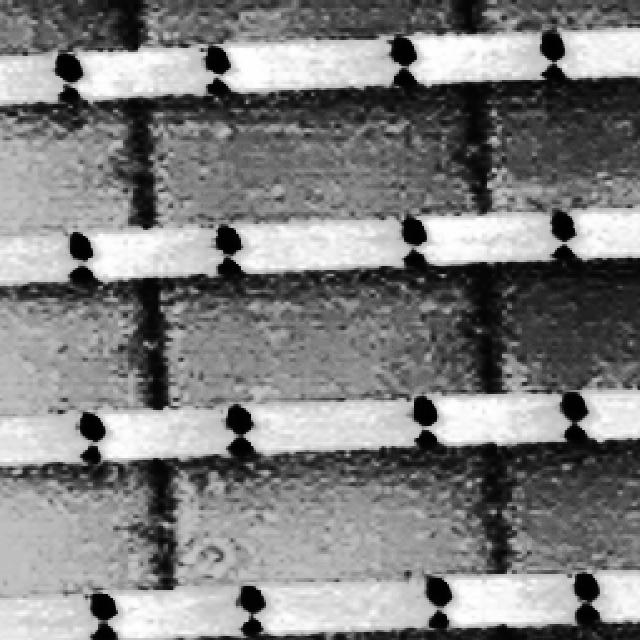PV-modules: (164, 447, 502, 589), (156, 267, 486, 410), (147, 94, 483, 230), (0, 468, 168, 601), (479, 80, 640, 218), (0, 283, 160, 421), (486, 259, 640, 395), (0, 102, 149, 236), (495, 440, 640, 571), (175, 630, 513, 640), (513, 624, 640, 640)
